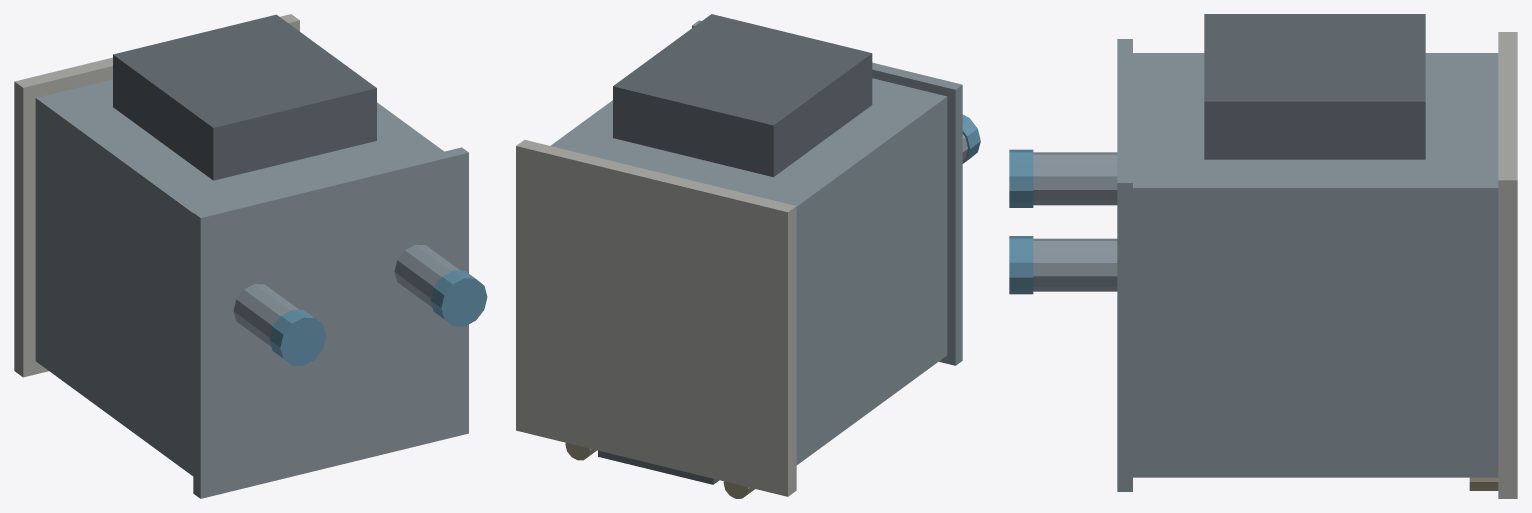
The model's file is AGE_IX_industrial.glb.
The picture shows the model from 3 angles, left to right: view 1: azimuth 30°, elevation 25°; view 2: azimuth 150°, elevation 25°; view 3: azimuth 270°, elevation 25°; orthographic projection. The views are drawn at different scales.
Parts seen in each view (by area): view 1: world; view 2: world; view 3: world.
Boxes of the visible parts, box(x1,y1,x2,y2) form: world: box(14, 14, 487, 498); world: box(516, 14, 980, 498); world: box(1009, 14, 1517, 498).
Bounding box in the file's own units: 6.6 × 8.05 × 9.55.
